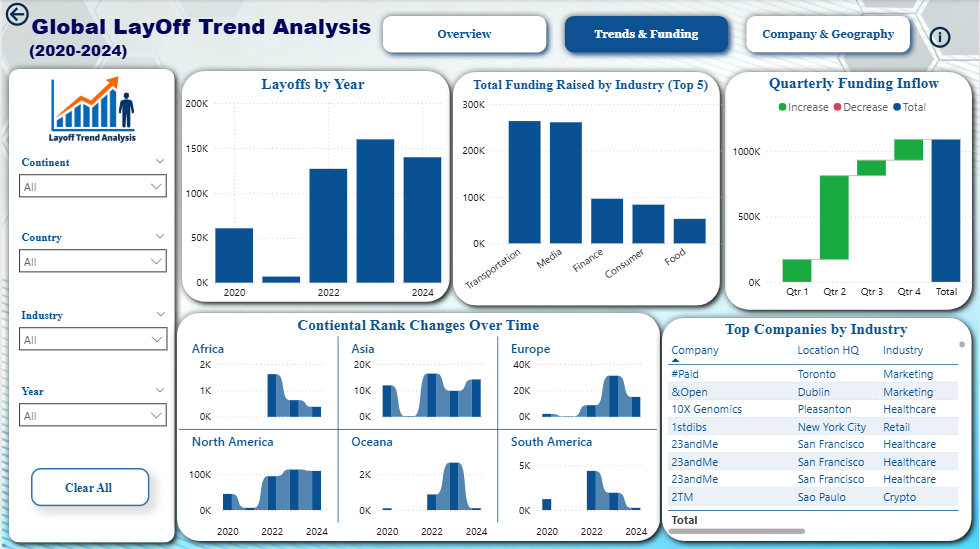

Layout of this report page (visuals, bound fields, positions):
{"tool":"powerbi","page":{"name":"Trends & Funding","canvas":[1280,720],"ordinal":5},"visuals":[{"type":"shape","box":[0,82,235,638],"z":0,"group":"g2"},{"type":"shape","box":[226.2,85,368.6,325.4],"z":0,"group":"g3"},{"type":"group","id":"g1","title":"Quarterly Funding Inflow","box":[937,86,342.8,334.3],"z":0},{"type":"shape","box":[937,86,341.4,334.3],"z":0,"group":"g1"},{"type":"shape","box":[220,402,650.6,316.6],"z":500,"group":"g4"},{"type":"shape","box":[855,408.3,423.3,310],"z":500,"group":"g6"},{"type":"group","id":"g2","title":"Filters panel","box":[0,82,235,638],"z":1000},{"type":"shape","box":[581,86,367.5,328.8],"z":1000,"group":"g5"},{"type":"waterfallChart","title":"Quarterly Funding Inflow","fields":{"Category":["Calendar.Date.Variation.Date Hierarchy.Quarter"],"Y":["Sum(Tech_layoffs_DB.Money Raised in million)"]},"box":[949.8,97.4,330,302.9],"z":1000,"group":"g1"},{"type":"clusteredColumnChart","title":"Layoffs by Year","fields":{"Y":["Measure.Total Laid Off"],"Category":["Calendar.Date.Variation.Date Hierarchy.Year"]},"box":[234.4,99.3,345.7,302.9],"z":1000,"group":"g3"},{"type":"slicer","fields":{"Values":["Tech_layoffs_DB.Continent"]},"box":[10,205,215,83],"z":1000,"group":"g2"},{"type":"ribbonChart","title":"Contiental Rank Changes Over Time","fields":{"Category":["Calendar.Year"],"Y":["Measure.Total Laid Off"],"Rows":["Tech_layoffs_DB.Continent"]},"box":[226.7,415.3,636.7,301.7],"z":1000,"group":"g4"},{"type":"tableEx","title":"Top Companies by Industry","fields":{"Values":["Tech_layoffs_DB.Company","Tech_layoffs_DB.Location_HQ","Tech_layoffs_DB.Industry","Tech_layoffs_DB.Date_layoffs","Sum(Tech_layoffs_DB.LaidOff)","Tech_layoffs_DB.Layoff Percentage","Tech_layoffs_DB.Stage"]},"box":[865.9,419.5,401.4,285.7],"z":1000,"group":"g6"},{"type":"group","id":"g3","title":"Layoff years","box":[226.2,85,368.6,325.4],"z":2000},{"type":"columnChart","title":"Total Funding Raised by Industry (Top 5)","fields":{"Y":["Sum(Tech_layoffs_DB.Money Raised in million)"],"Category":["Tech_layoffs_DB.Industry"]},"box":[591,103.5,357.5,302.5],"z":2000,"group":"g5"},{"type":"slicer","fields":{"Values":["Tech_layoffs_DB.Country"]},"box":[10,303,215,79],"z":2000,"group":"g2"},{"type":"group","id":"g4","title":"Contiental rank","box":[220,402,650.6,316.6],"z":3000},{"type":"slicer","fields":{"Values":["Tech_layoffs_DB.Industry"]},"box":[11,406,216,82],"z":3000,"group":"g2"},{"type":"shape","title":"Title","box":[28.6,1.3,467.3,66.8],"z":4000,"group":"g7"},{"type":"group","id":"g5","title":"Total Funding","box":[581,86,367.5,328.8],"z":4000},{"type":"slicer","fields":{"Values":["Calendar.Year"]},"box":[11,504.3,215,76],"z":4000,"group":"g2"},{"type":"group","id":"g6","title":"Top Companies by Industry","box":[855,408.3,423.3,310],"z":5000},{"type":"image","title":"Logo","box":[6,61,225,170],"z":7000},{"type":"actionButton","title":"Clear all Filters","box":[38.3,613.3,155,50],"z":8000},{"type":"shape","title":"Year title","box":[28.1,32.8,467.3,67.6],"z":8001,"group":"g7"},{"type":"actionButton","box":[0,0,100,40],"z":9000},{"type":"pageNavigator","box":[489.7,13.1,710.8,66.8],"z":10000},{"type":"actionButton","title":"FAQ","box":[1200.7,19.2,55,61.7],"z":11000},{"type":"group","id":"g7","title":"Title","box":[28.1,1.3,467.9,99.1],"z":12000}]}

Visuals, with their boxes in screenshot pixels (x1, y1, x2, y2), scaled from the page's 1280x720 canvas onto the 980x549 screenshot:
shape: (0,63,180,548)
shape: (173,65,455,313)
"Quarterly Funding Inflow" group: (717,66,979,320)
shape: (717,66,979,320)
shape: (168,307,667,548)
shape: (655,311,979,548)
"Filters panel" group: (0,63,180,548)
shape: (445,66,726,316)
"Quarterly Funding Inflow" waterfallChart: (727,74,979,305)
"Layoffs by Year" clusteredColumnChart: (179,76,444,307)
slicer - Tech_layoffs_DB.Continent: (8,156,172,220)
"Contiental Rank Changes Over Time" ribbonChart: (174,317,661,547)
"Top Companies by Industry" tableEx: (663,320,970,538)
"Layoff years" group: (173,65,455,313)
"Total Funding Raised by Industry (Top 5)" columnChart: (452,79,726,310)
slicer - Tech_layoffs_DB.Country: (8,231,172,291)
"Contiental rank" group: (168,307,667,548)
slicer - Tech_layoffs_DB.Industry: (8,310,174,372)
"Title" shape: (22,1,380,52)
"Total Funding" group: (445,66,726,316)
slicer - Calendar.Year: (8,385,173,442)
"Top Companies by Industry" group: (655,311,979,548)
"Logo" image: (5,47,177,176)
"Clear all Filters" actionButton: (29,468,148,506)
"Year title" shape: (22,25,379,77)
actionButton: (0,0,77,30)
pageNavigator: (375,10,919,61)
"FAQ" actionButton: (919,15,961,62)
"Title" group: (22,1,380,77)
